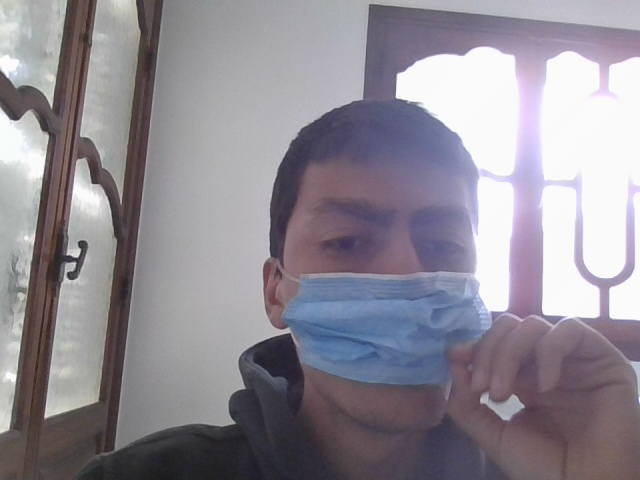mask_weared_incorrect: (281, 114, 490, 442)
